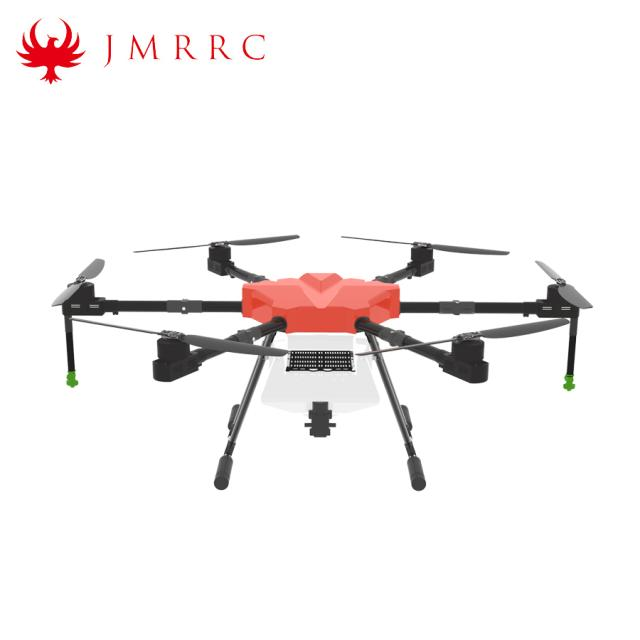drone: (39, 216, 640, 479)
